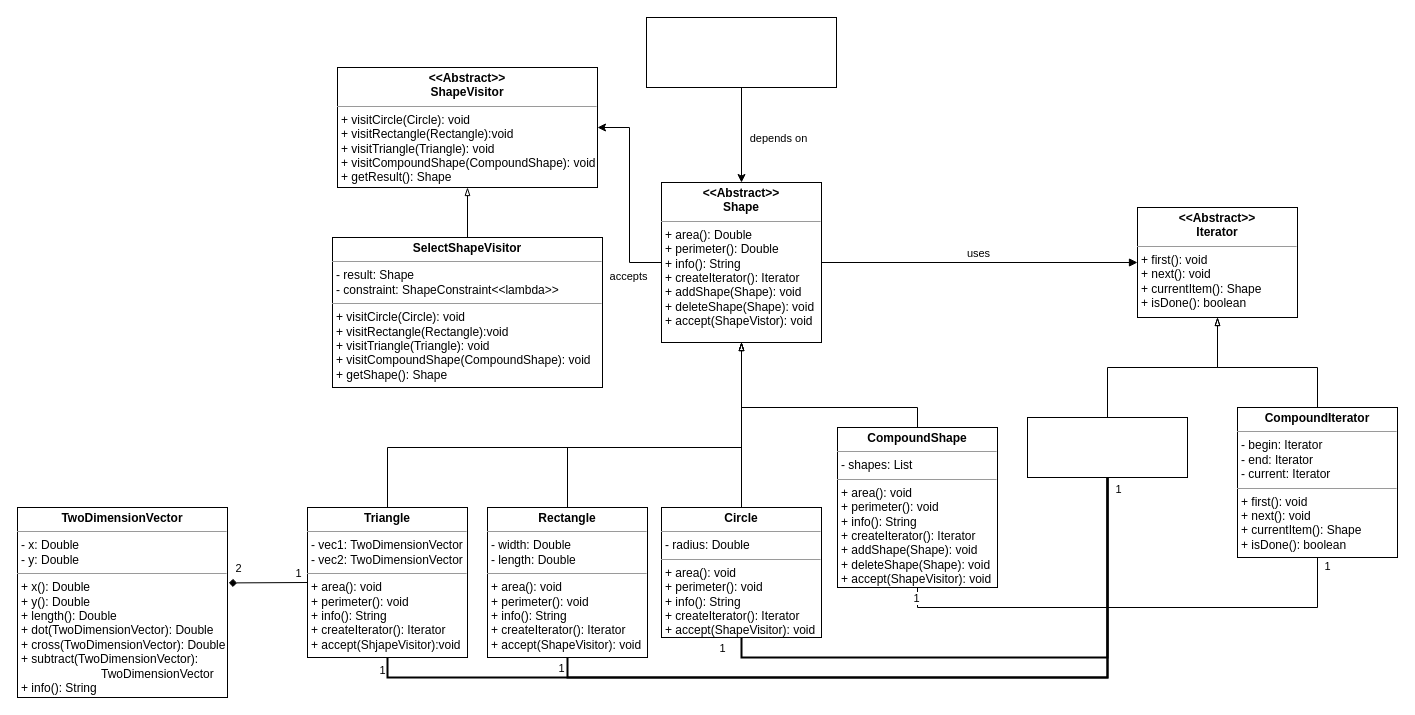
The diagram is 1415 pixels wide and 715 high, and some of its shapes have lost their labels. The centre of each missing label's shape, as x and y in pixels:
NullIterator + isDone(): boolean: pixel 1107 447
Utility + selectFirstShape(Shape, ShapeConstriant): pixel 741 52
